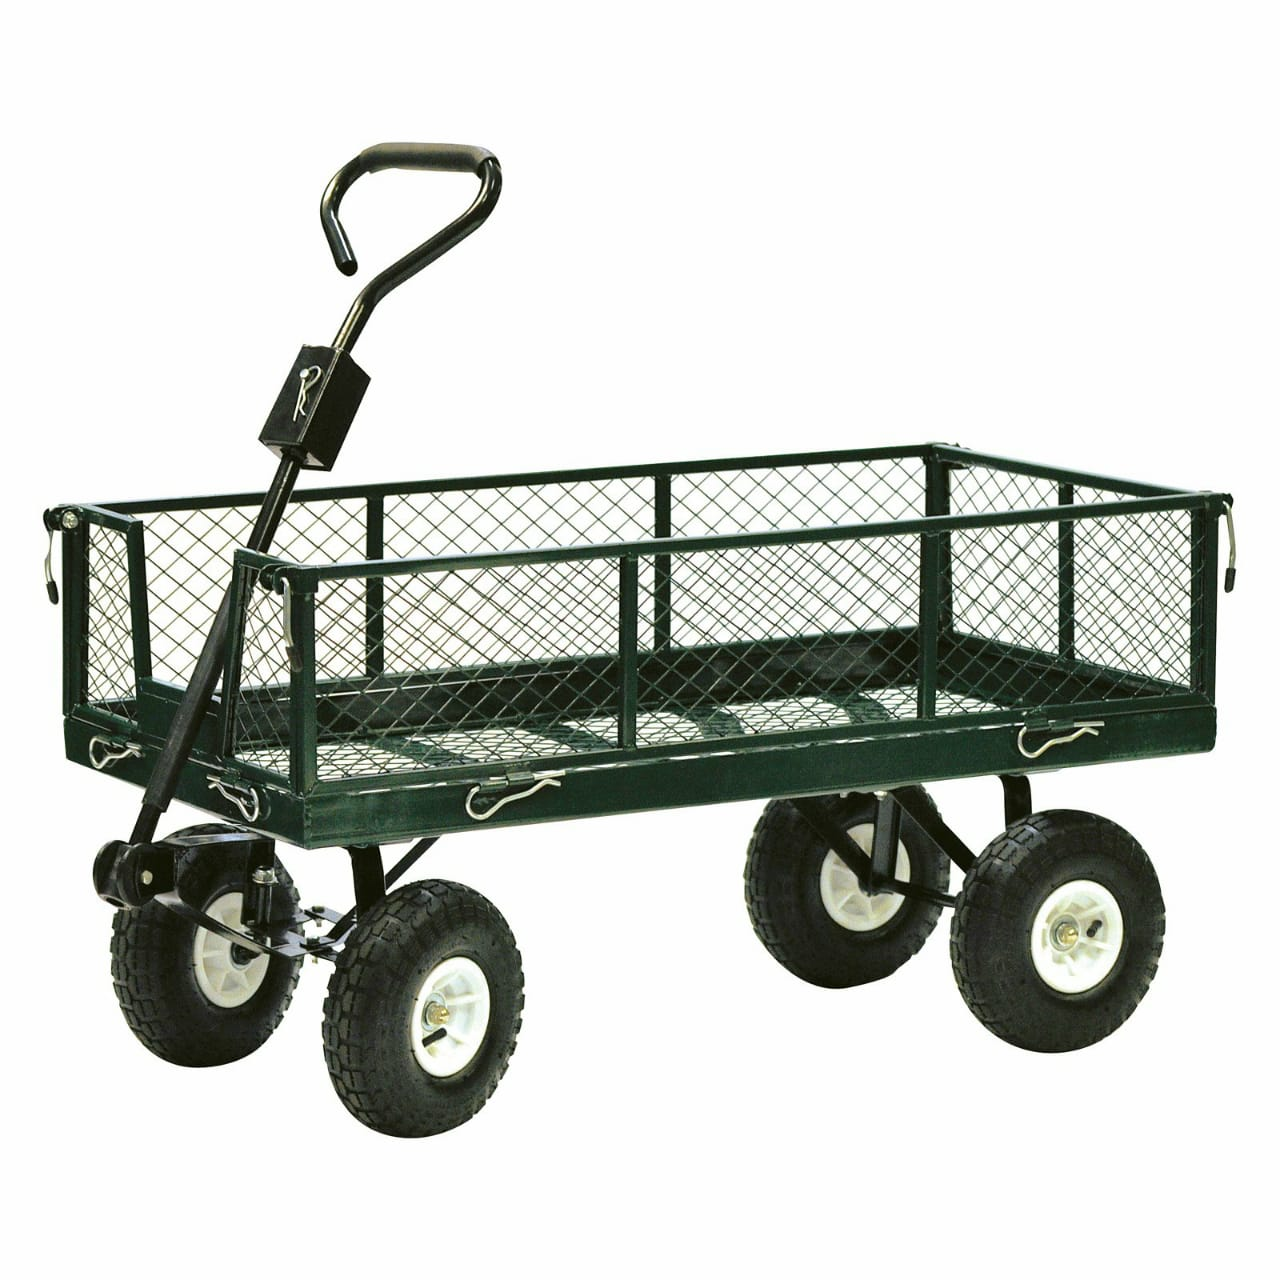Carts: (34, 142, 1239, 1131)
